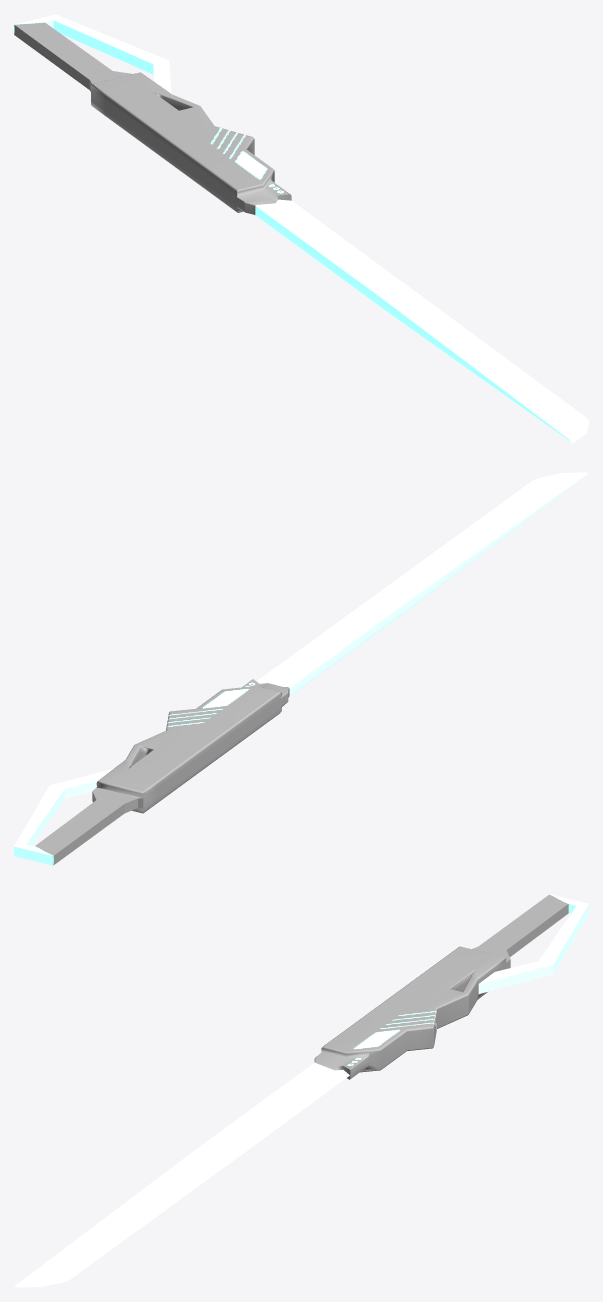
File: Object_Sword_Final.fbx
The picture shows the model from 3 angles, top to bottom: view 1: azimuth 30°, elevation 25°; view 2: azimuth 150°, elevation 25°; view 3: azimuth 330°, elevation 25°; orthographic projection. The views are drawn at different scales.
Visible parts, largest first — view 1: ALIEN_BUSTER_3001; view 2: ALIEN_BUSTER_3001; view 3: ALIEN_BUSTER_3001.
Part boxes in pixels (x1,y1,x2,y2): ALIEN_BUSTER_3001: (14, 14, 588, 443); ALIEN_BUSTER_3001: (14, 472, 588, 865); ALIEN_BUSTER_3001: (14, 894, 588, 1287).
Size of the model in its own units: 1.95 by 0.4859 by 21.4.
